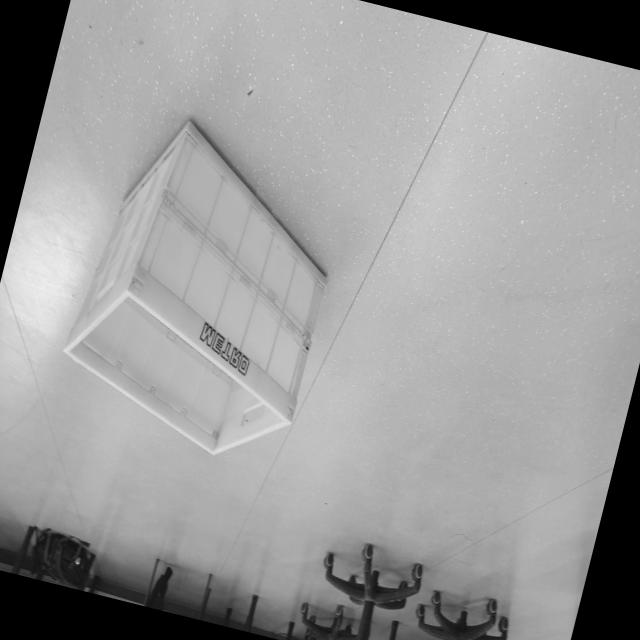box: (41, 100, 364, 481)
